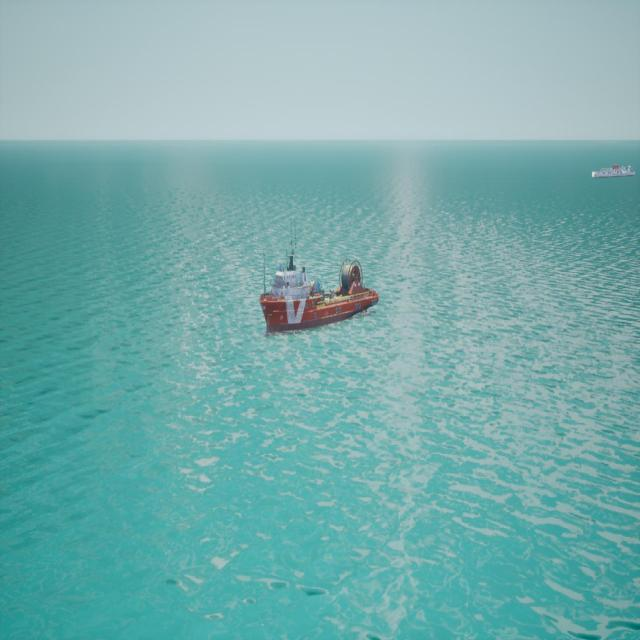tug boat: (261, 250, 378, 337)
